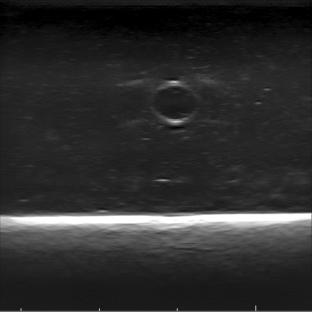vessel: (148, 79, 201, 125)
